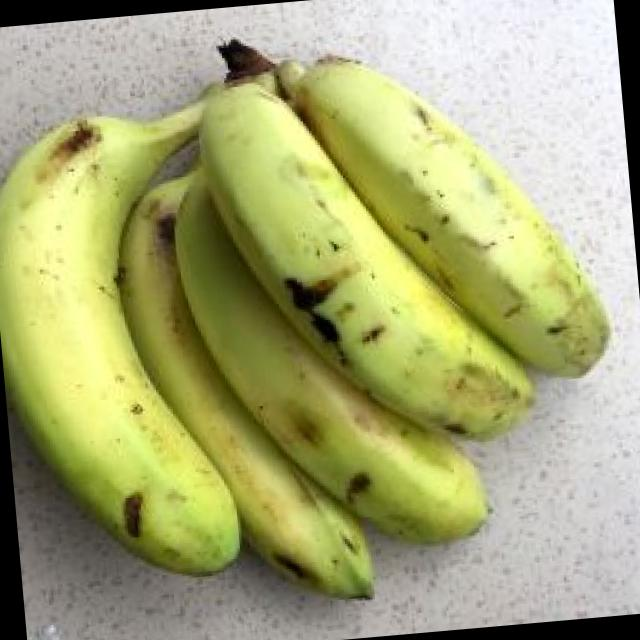banana: (0, 106, 575, 534)
